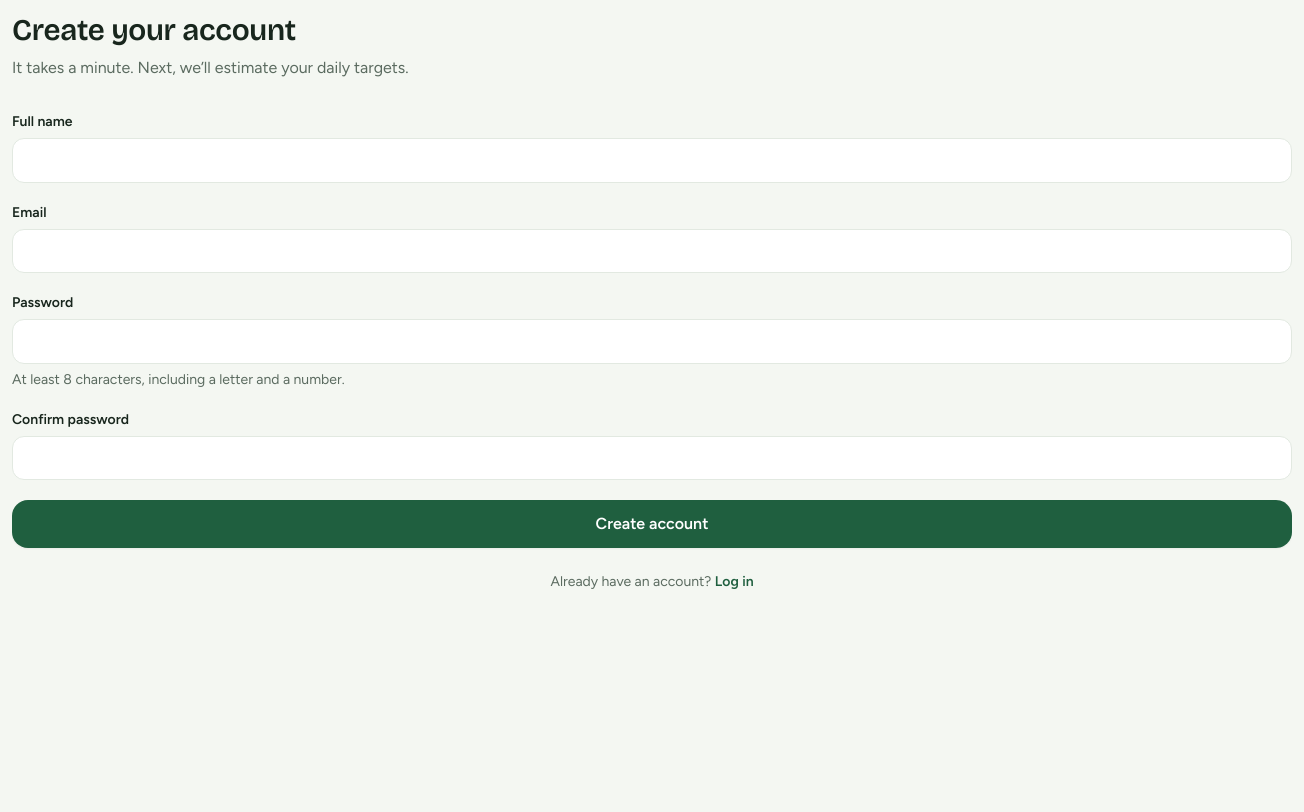
Scenario: Register page › rejects mismatched and weak passwords
Type "Asha Rao" into the field labelled "Full name". click: (652, 160)
box: [12,138,1292,182]
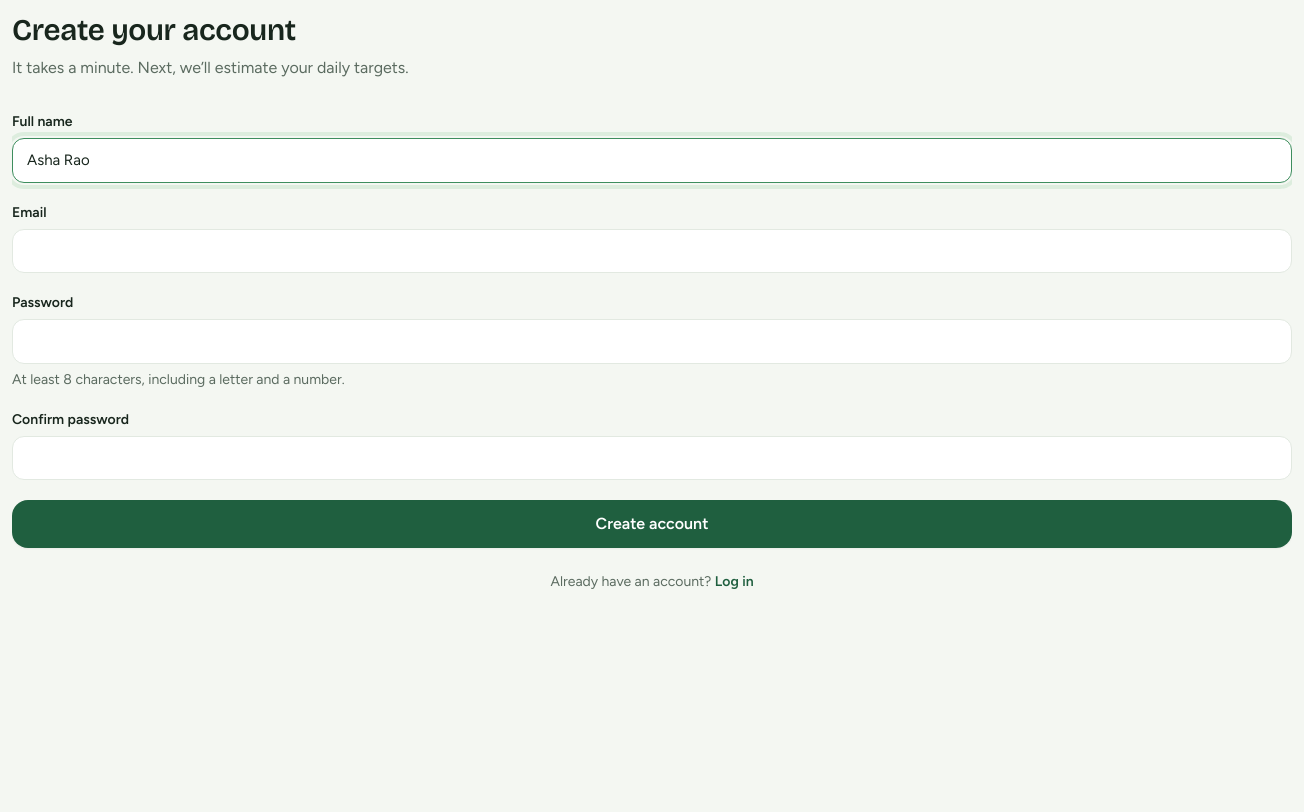
Type "asha@example.com" into the field labelled "Email". click: (652, 251)
box: [12,228,1292,273]
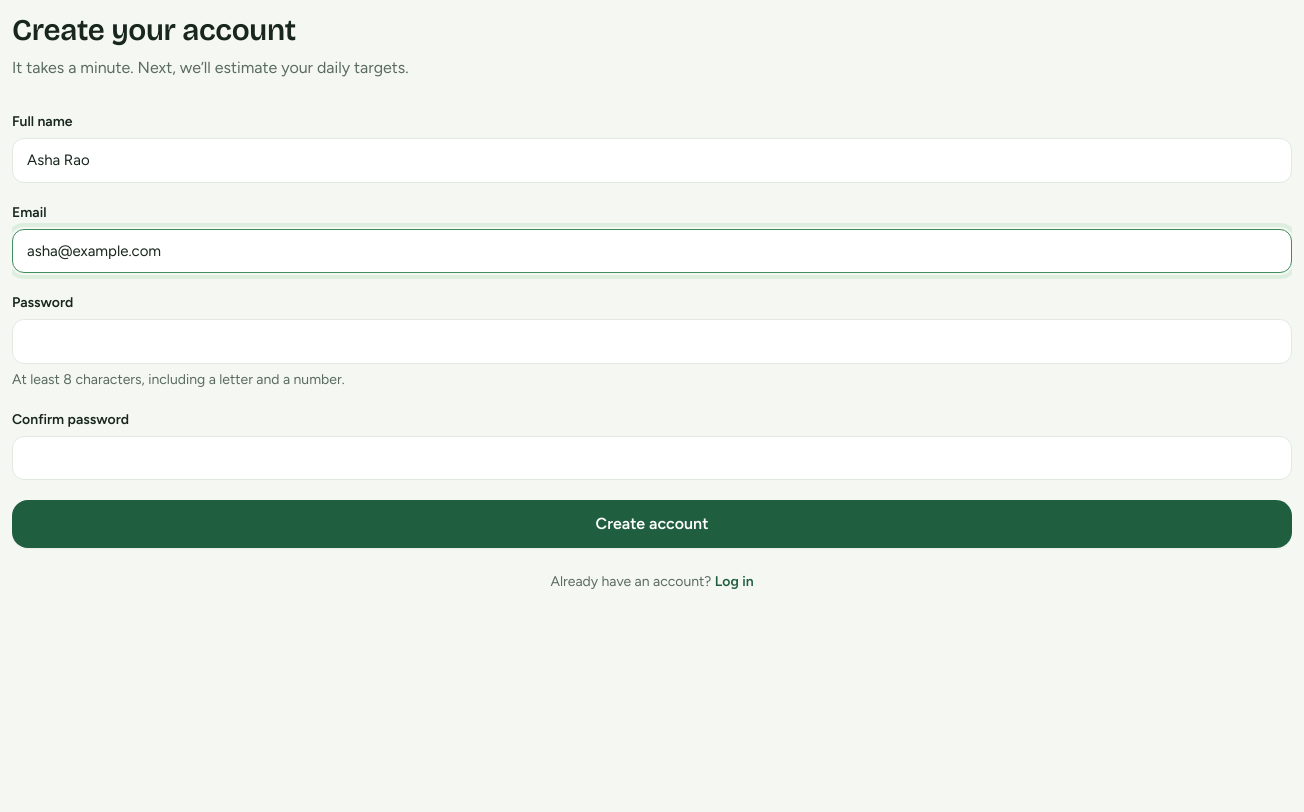
Type "letters" into the password field labelled "Password". click: (652, 341)
box: [12,319,1292,364]
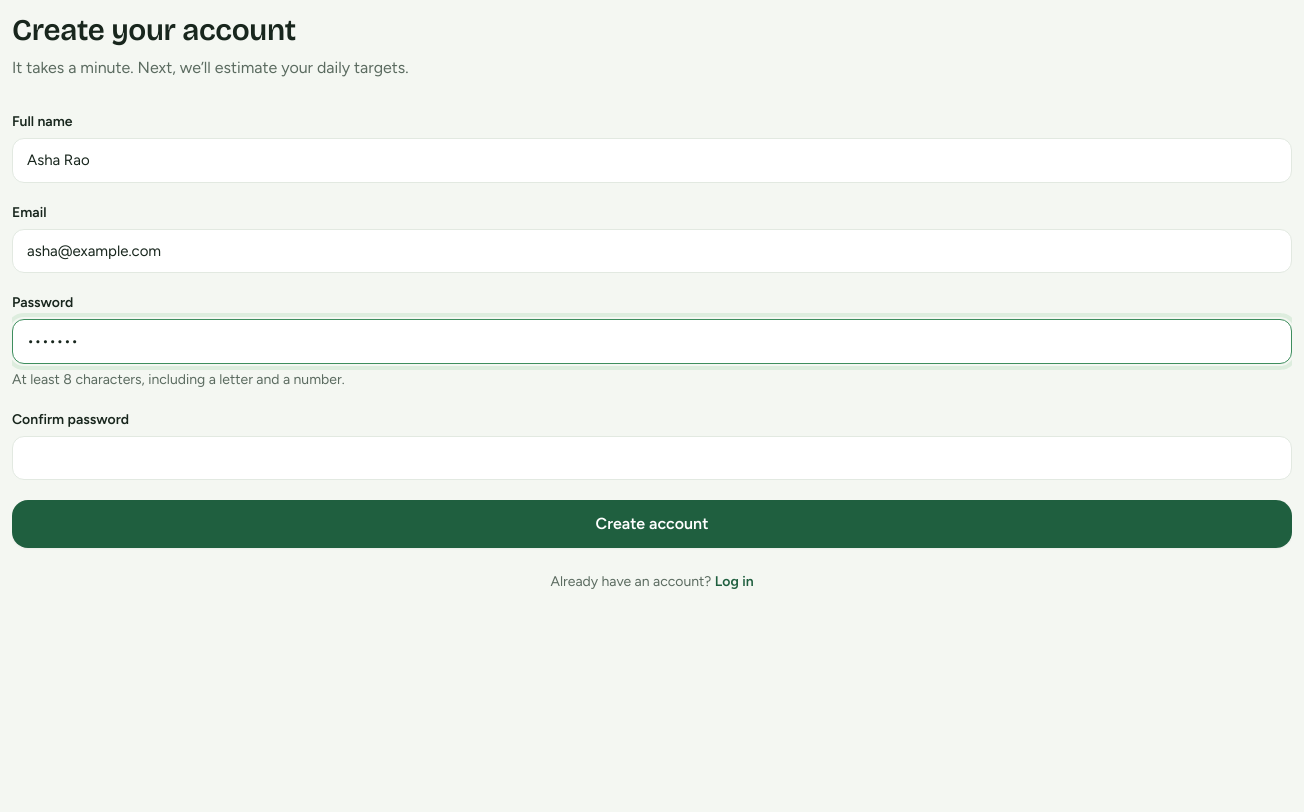
Type "different" into the password field labelled "Confirm password". click: (652, 458)
box: [12,436,1292,480]
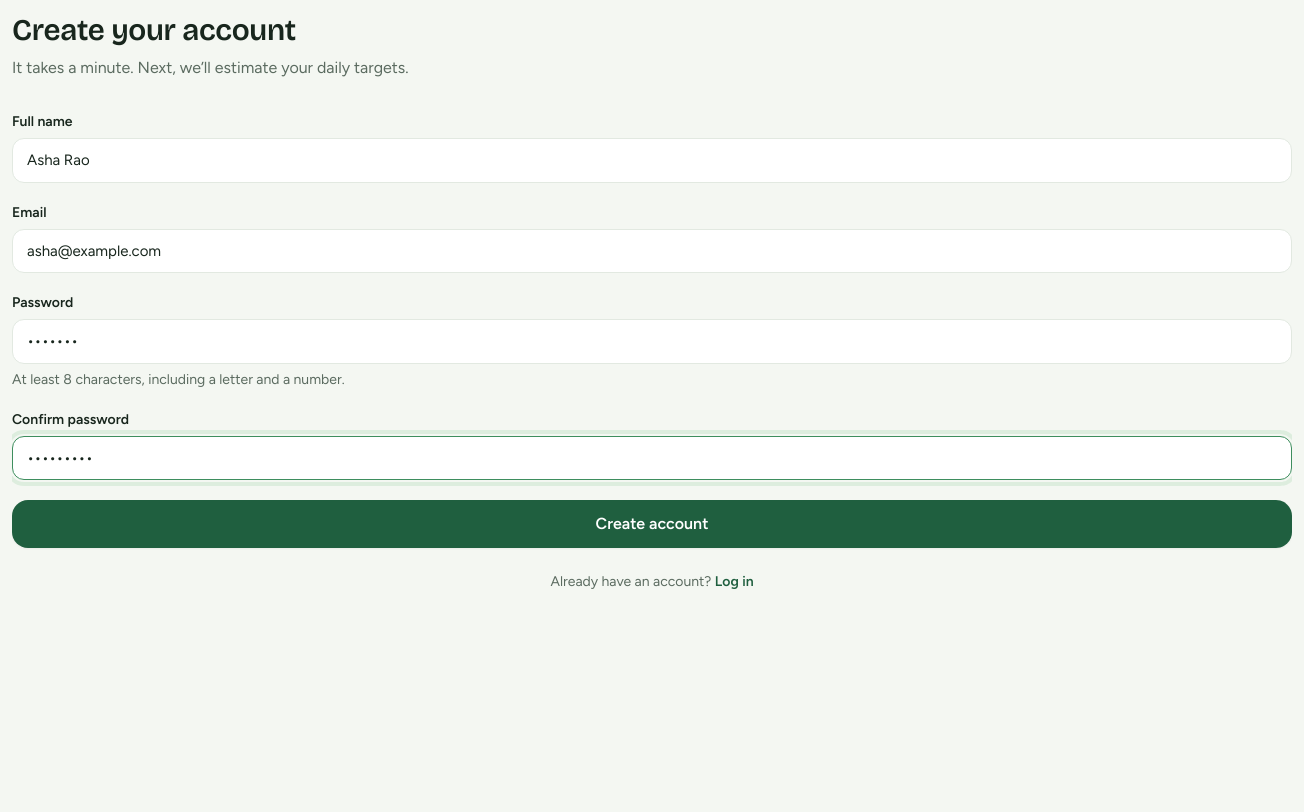
Click the button "Create account". click: (652, 524)
box: [12,500,1292,548]
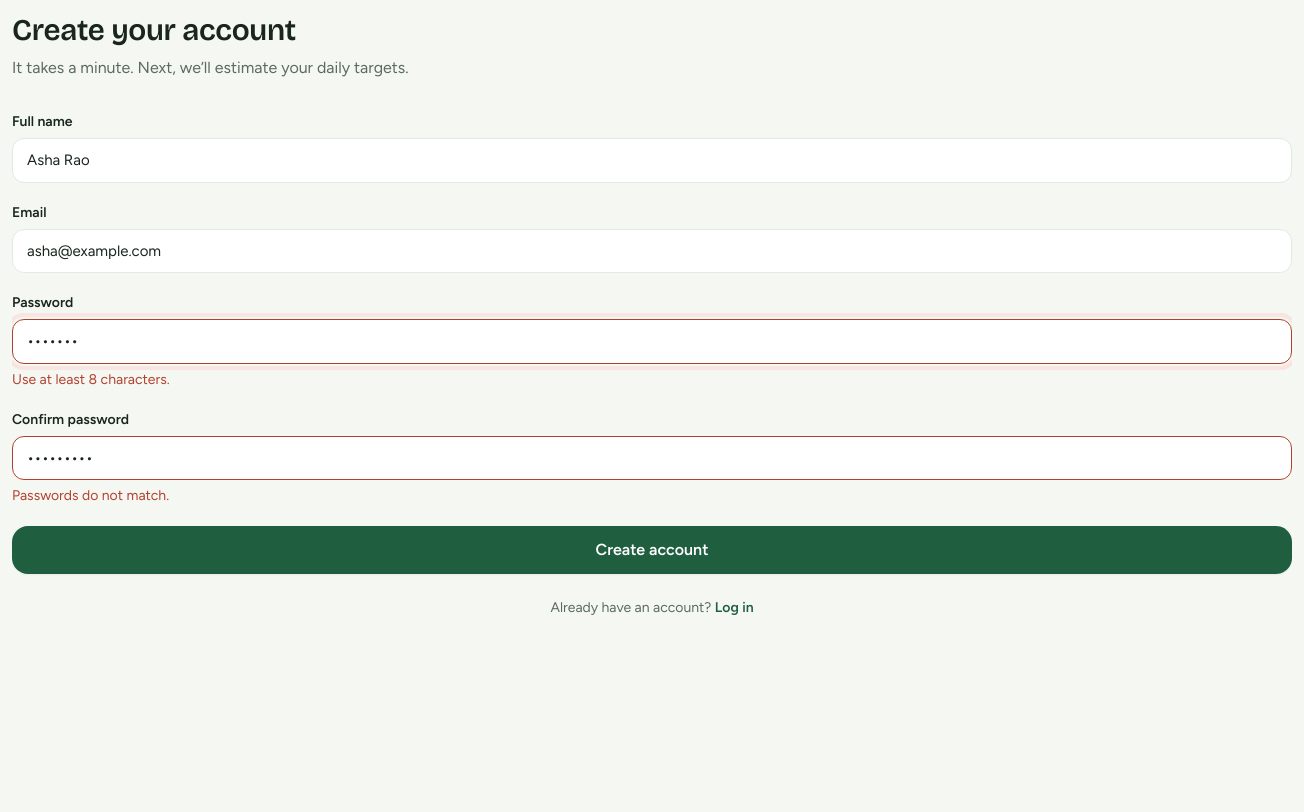
Expected: the text "Use at least 8 characters." is shown, [12,370,170,388]
Expected: the text "Passwords do not match." is shown, [12,487,169,504]
